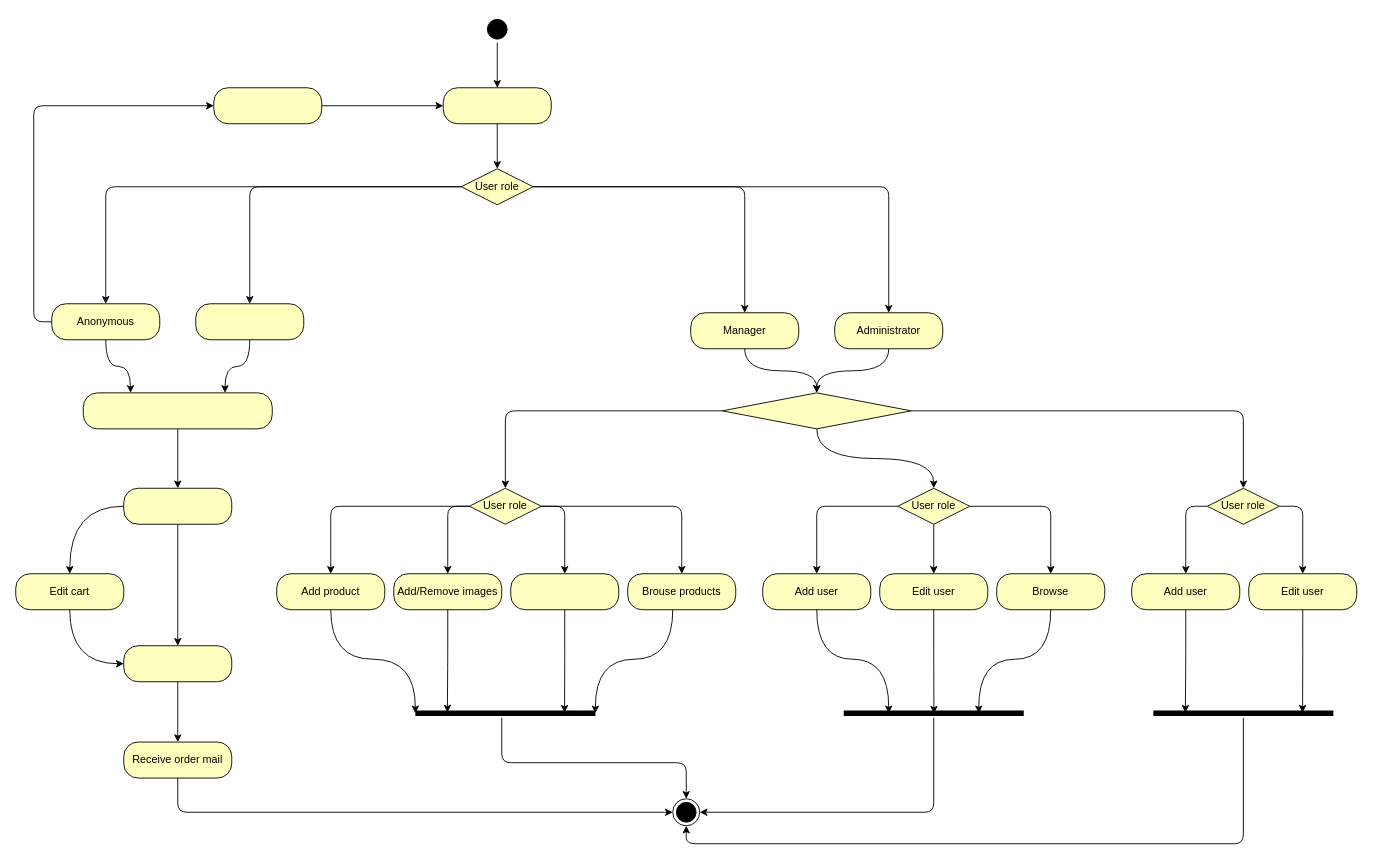
Image size: 1373x867. Some labels were removed from this diagram. Here are the shapes that lost their labels. From the top down, the centre of each, then its label:
At point (267, 105): "Register".
At point (496, 105): "Login".
At point (249, 321): "Customer".
At point (177, 410): "Brouse categories and products".
At point (816, 410): "CMS Functionality".
At point (177, 505): "Fill cart".
At point (564, 591): "Edit product".
At point (177, 663): "Make order".
